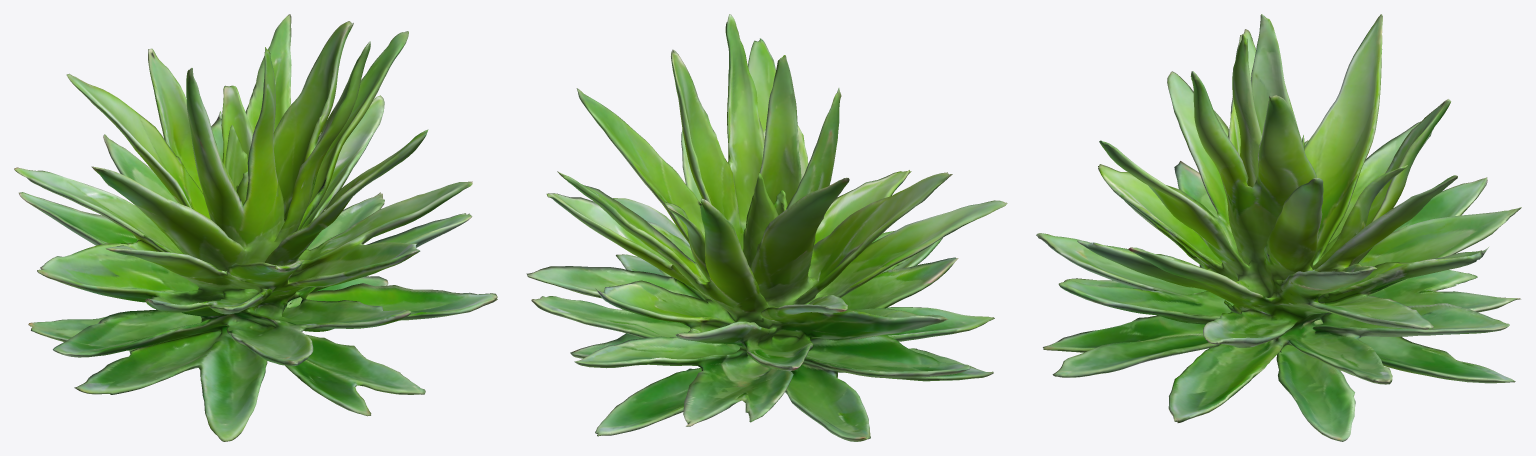
Rendered from Aloe_Vera_Plant_0919150337.glb.
3 views of the same model, side by side, from view 1: azimuth 30°, elevation 25°; view 2: azimuth 150°, elevation 25°; view 3: azimuth 270°, elevation 25° (orthographic). The views are drawn at different scales.
Bounding box in the file's own units: 1.94 × 1.47 × 1.96.
1 material, 1 textured.
